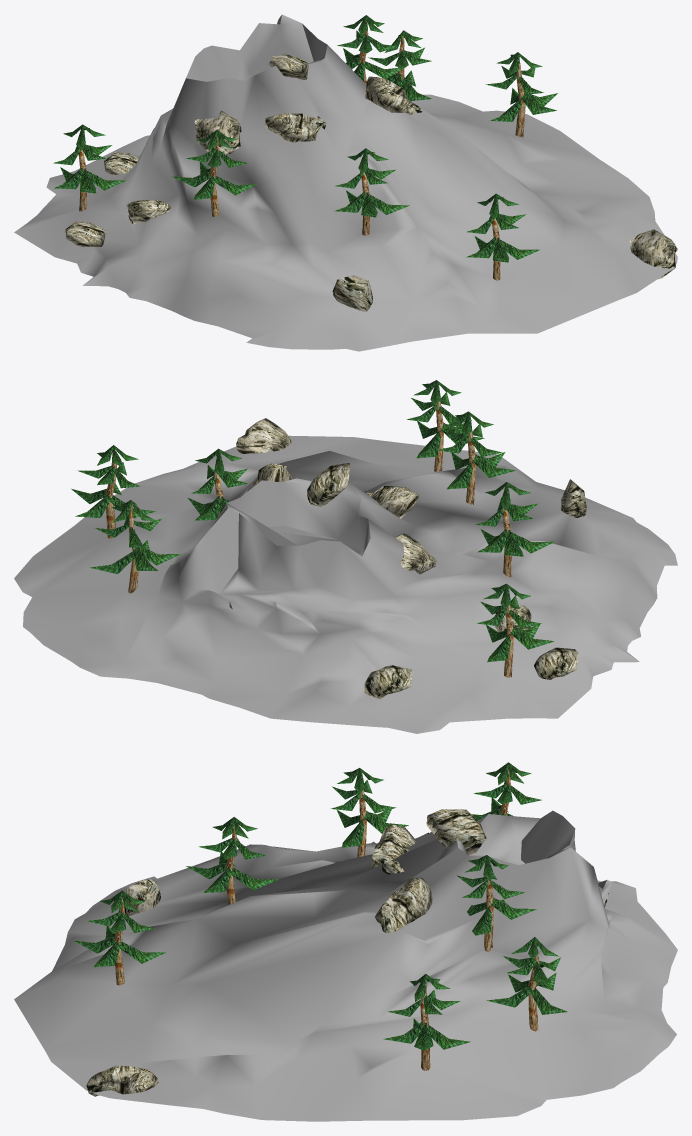
File: snow_island14.fbx
3 views of the same model, one above another, from view 1: azimuth 30°, elevation 25°; view 2: azimuth 150°, elevation 25°; view 3: azimuth 270°, elevation 25° (orthographic). The views are drawn at different scales.
Visible parts, largest first — view 1: snow_island_14; view 2: snow_island_14; view 3: snow_island_14.
Boxes of the visible parts, x1,y1,x2,y2 form: snow_island_14: (14,14,677,351); snow_island_14: (14,380,677,733); snow_island_14: (14,762,677,1121).
Bounding box in the file's own units: 0.4079 × 0.1217 × 0.4085.
Materials: 2 (1 with a texture image).
